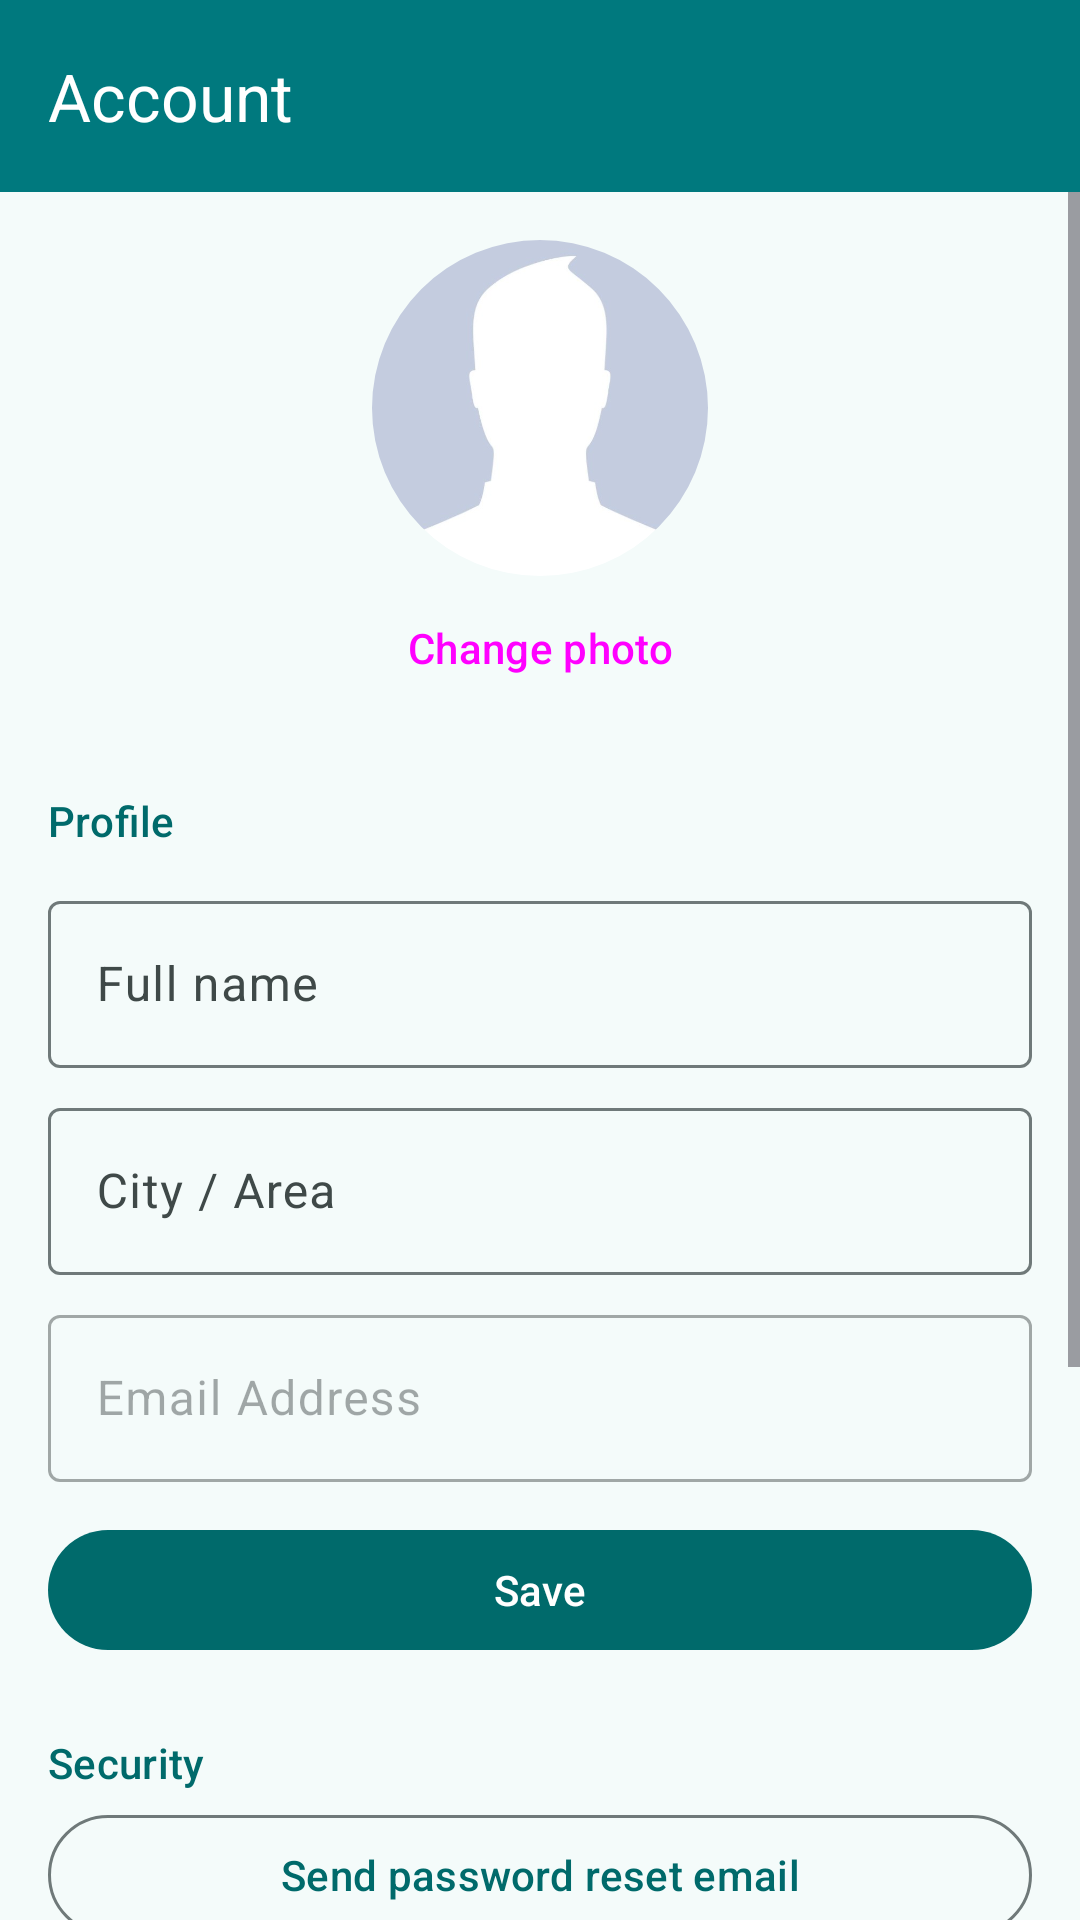

Point at icon controls on the screen. Image size 1080x1920, points as (x=x, y=y).
Profile picture: (x=540, y=384)
